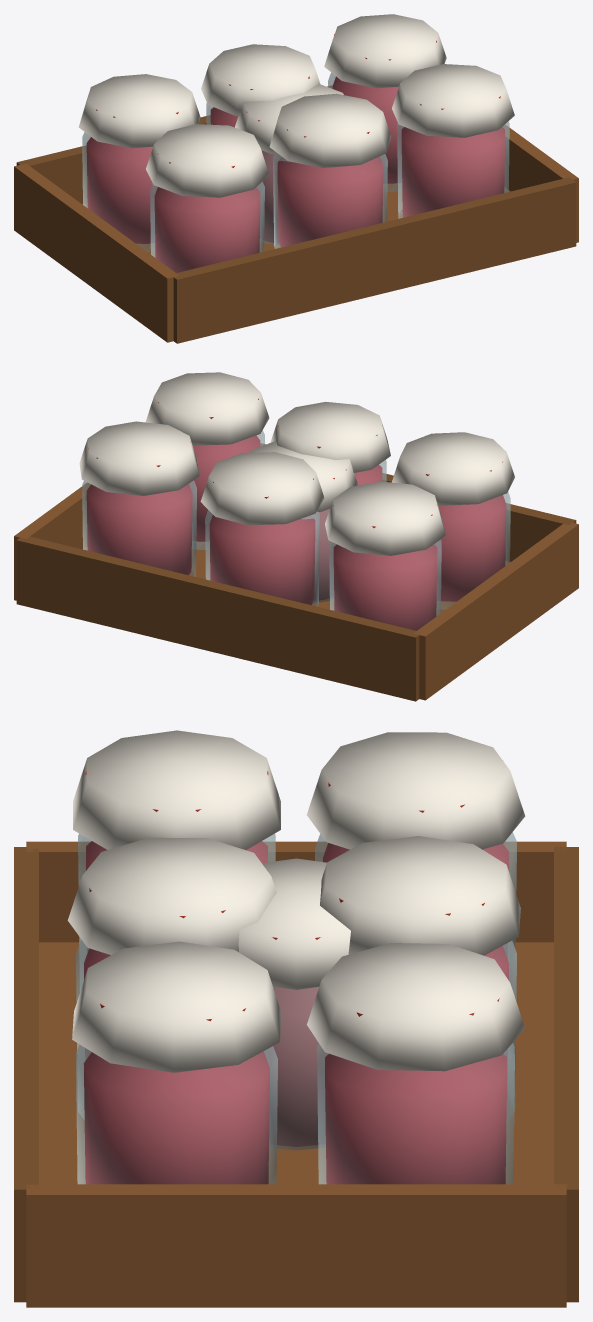
Rendered from Proc_Jam.fbx.
3 renders of one model, top to bottom at view 1: azimuth 30°, elevation 25°; view 2: azimuth 150°, elevation 25°; view 3: azimuth 270°, elevation 25°, orthographic. The views are drawn at different scales.
Parts seen in each view (by area): view 1: Proc_Jam__Stack, Proc_Jam, Proc_Jam__Rotten; view 2: Proc_Jam__Stack, Proc_Jam, Proc_Jam__Rotten; view 3: Proc_Jam__Stack, Proc_Jam, Proc_Jam__Rotten.
Part boxes in pixels (x1=…): Proc_Jam__Stack: x1=14, y1=14, x2=578, y2=343; Proc_Jam: x1=235, y1=83, x2=343, y2=245; Proc_Jam__Rotten: x1=262, y1=151, x2=273, y2=244; Proc_Jam__Stack: x1=14, y1=372, x2=578, y2=701; Proc_Jam: x1=249, y1=441, x2=357, y2=603; Proc_Jam__Rotten: x1=319, y1=509, x2=329, y2=602; Proc_Jam__Stack: x1=14, y1=730, x2=578, y2=1307; Proc_Jam: x1=238, y1=858, x2=350, y2=1150; Proc_Jam__Rotten: x1=273, y1=987, x2=318, y2=1149.
Bounding box in the file's own units: 0.2692 × 0.0934 × 0.1819.
